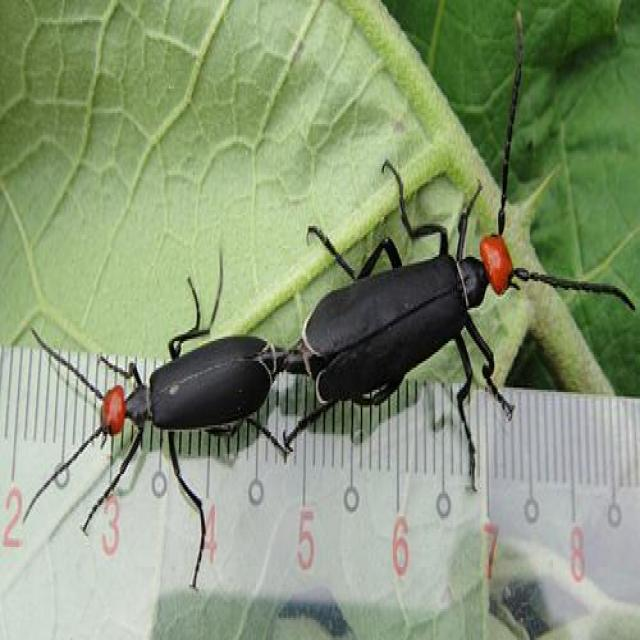BlisterBeetle-Adult-: (291, 137, 575, 482), (47, 264, 292, 490)
